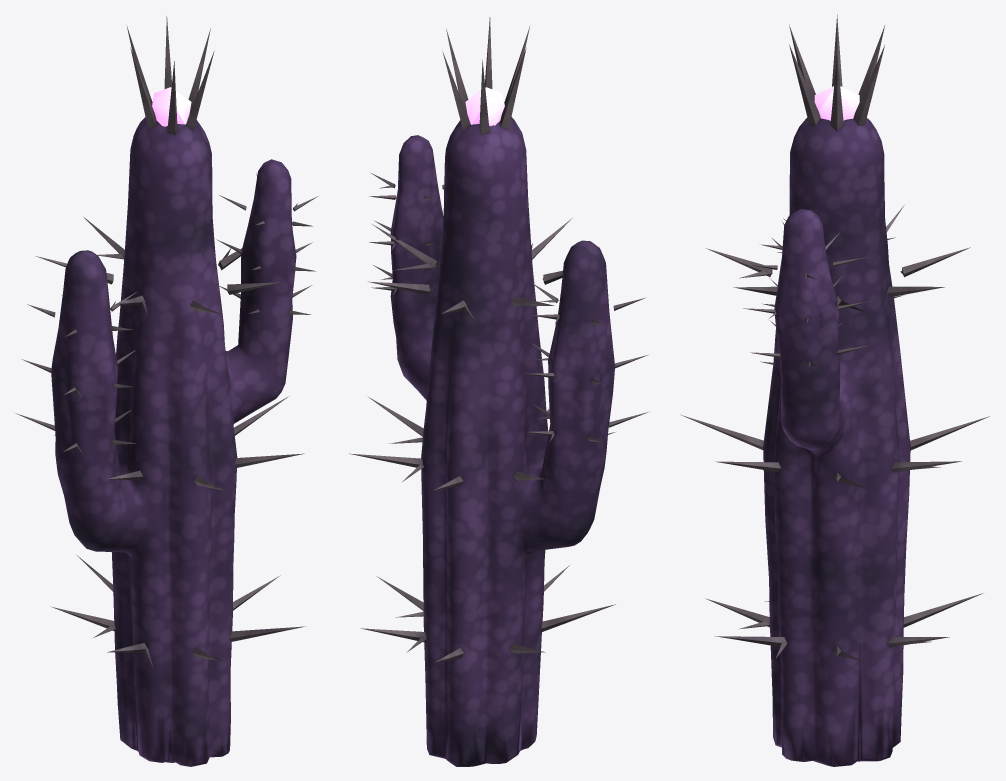
Rendered from cactus_espina.fbx.
3 views of the same model, side by side, from view 1: azimuth 30°, elevation 25°; view 2: azimuth 150°, elevation 25°; view 3: azimuth 270°, elevation 25° (orthographic).
Visible parts, largest first — view 1: cactus, flor_neon; view 2: cactus, flor_neon; view 3: cactus, flor_neon.
Boxes of the visible parts, x1,y1,x2,y2 form: cactus: (15,16,318,766); flor_neon: (152,87,191,126); cactus: (349,17,649,766); flor_neon: (465,87,504,126); cactus: (680,14,989,766); flor_neon: (814,86,859,120).
Bounding box in the file's own units: 2 × 5 × 2.
1 material, 1 textured.
